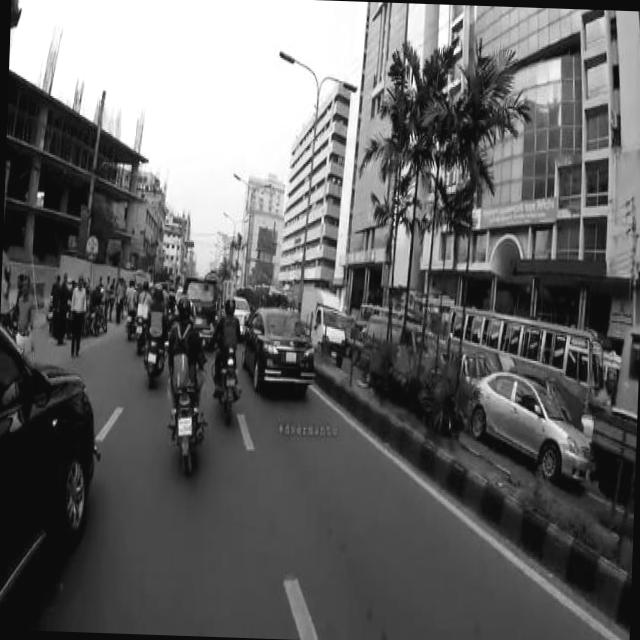bus: (443, 300, 602, 406), (356, 298, 412, 322)
car: (0, 321, 97, 616), (464, 368, 592, 482), (238, 304, 316, 385), (228, 292, 249, 330)
motorcycle: (166, 352, 204, 474), (208, 338, 242, 419), (142, 324, 164, 382), (134, 309, 146, 348), (122, 308, 132, 340)
truck: (358, 310, 444, 384), (298, 280, 348, 358), (180, 272, 218, 336)
